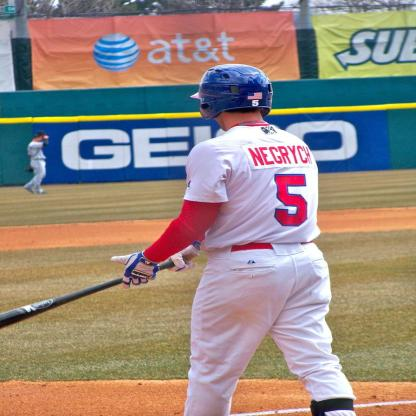Helmet: (197, 62, 274, 122)
